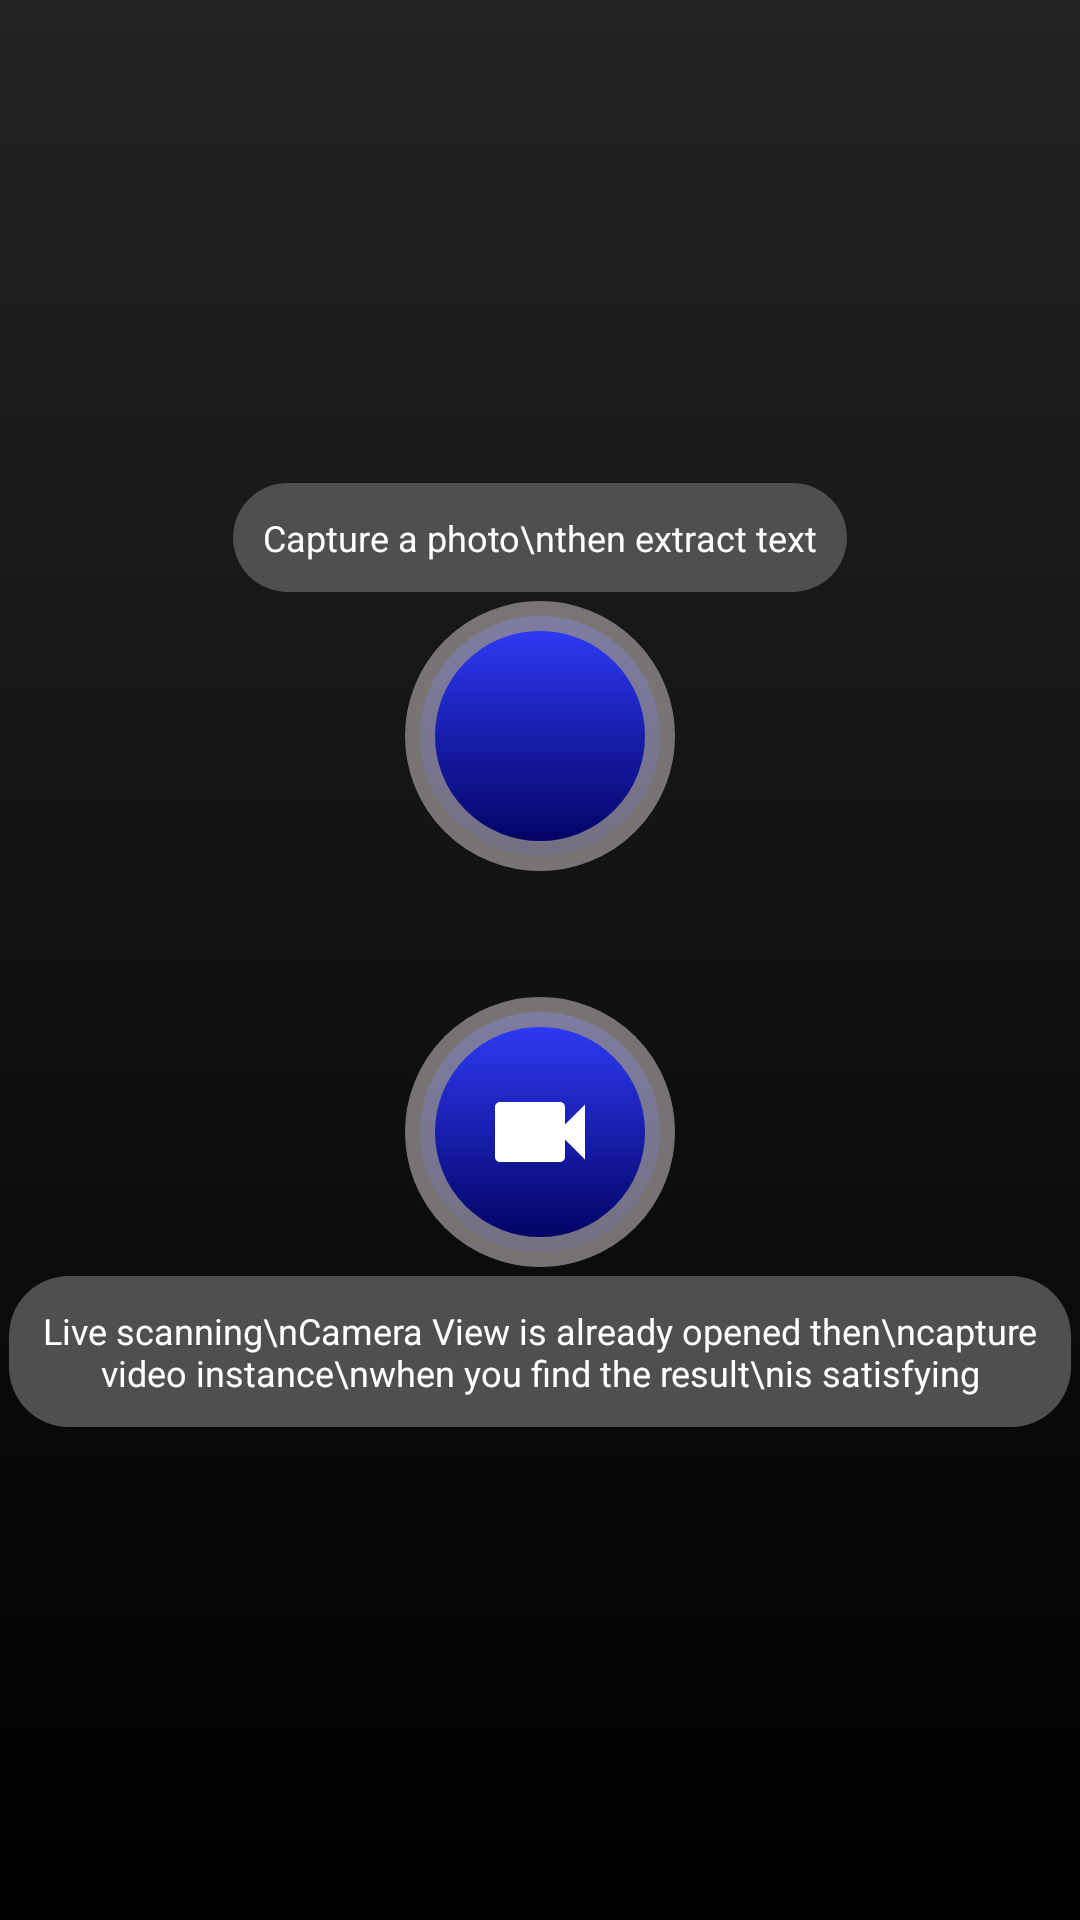

Locate icon controls on the screen. Image size 1080 x 1920, boxes as detection(x1, y1, x2, y2).
videocam: detection(405, 997, 675, 1267)
